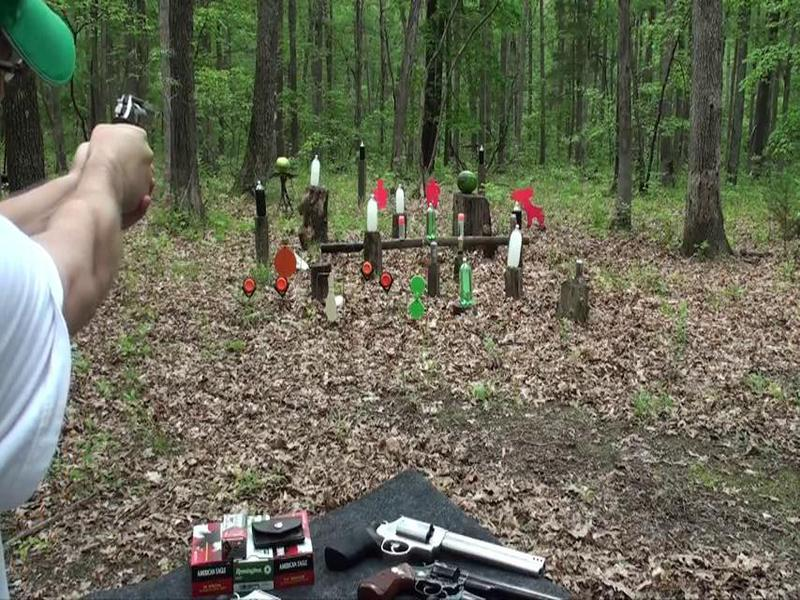Revolver: (103, 78, 167, 145)
